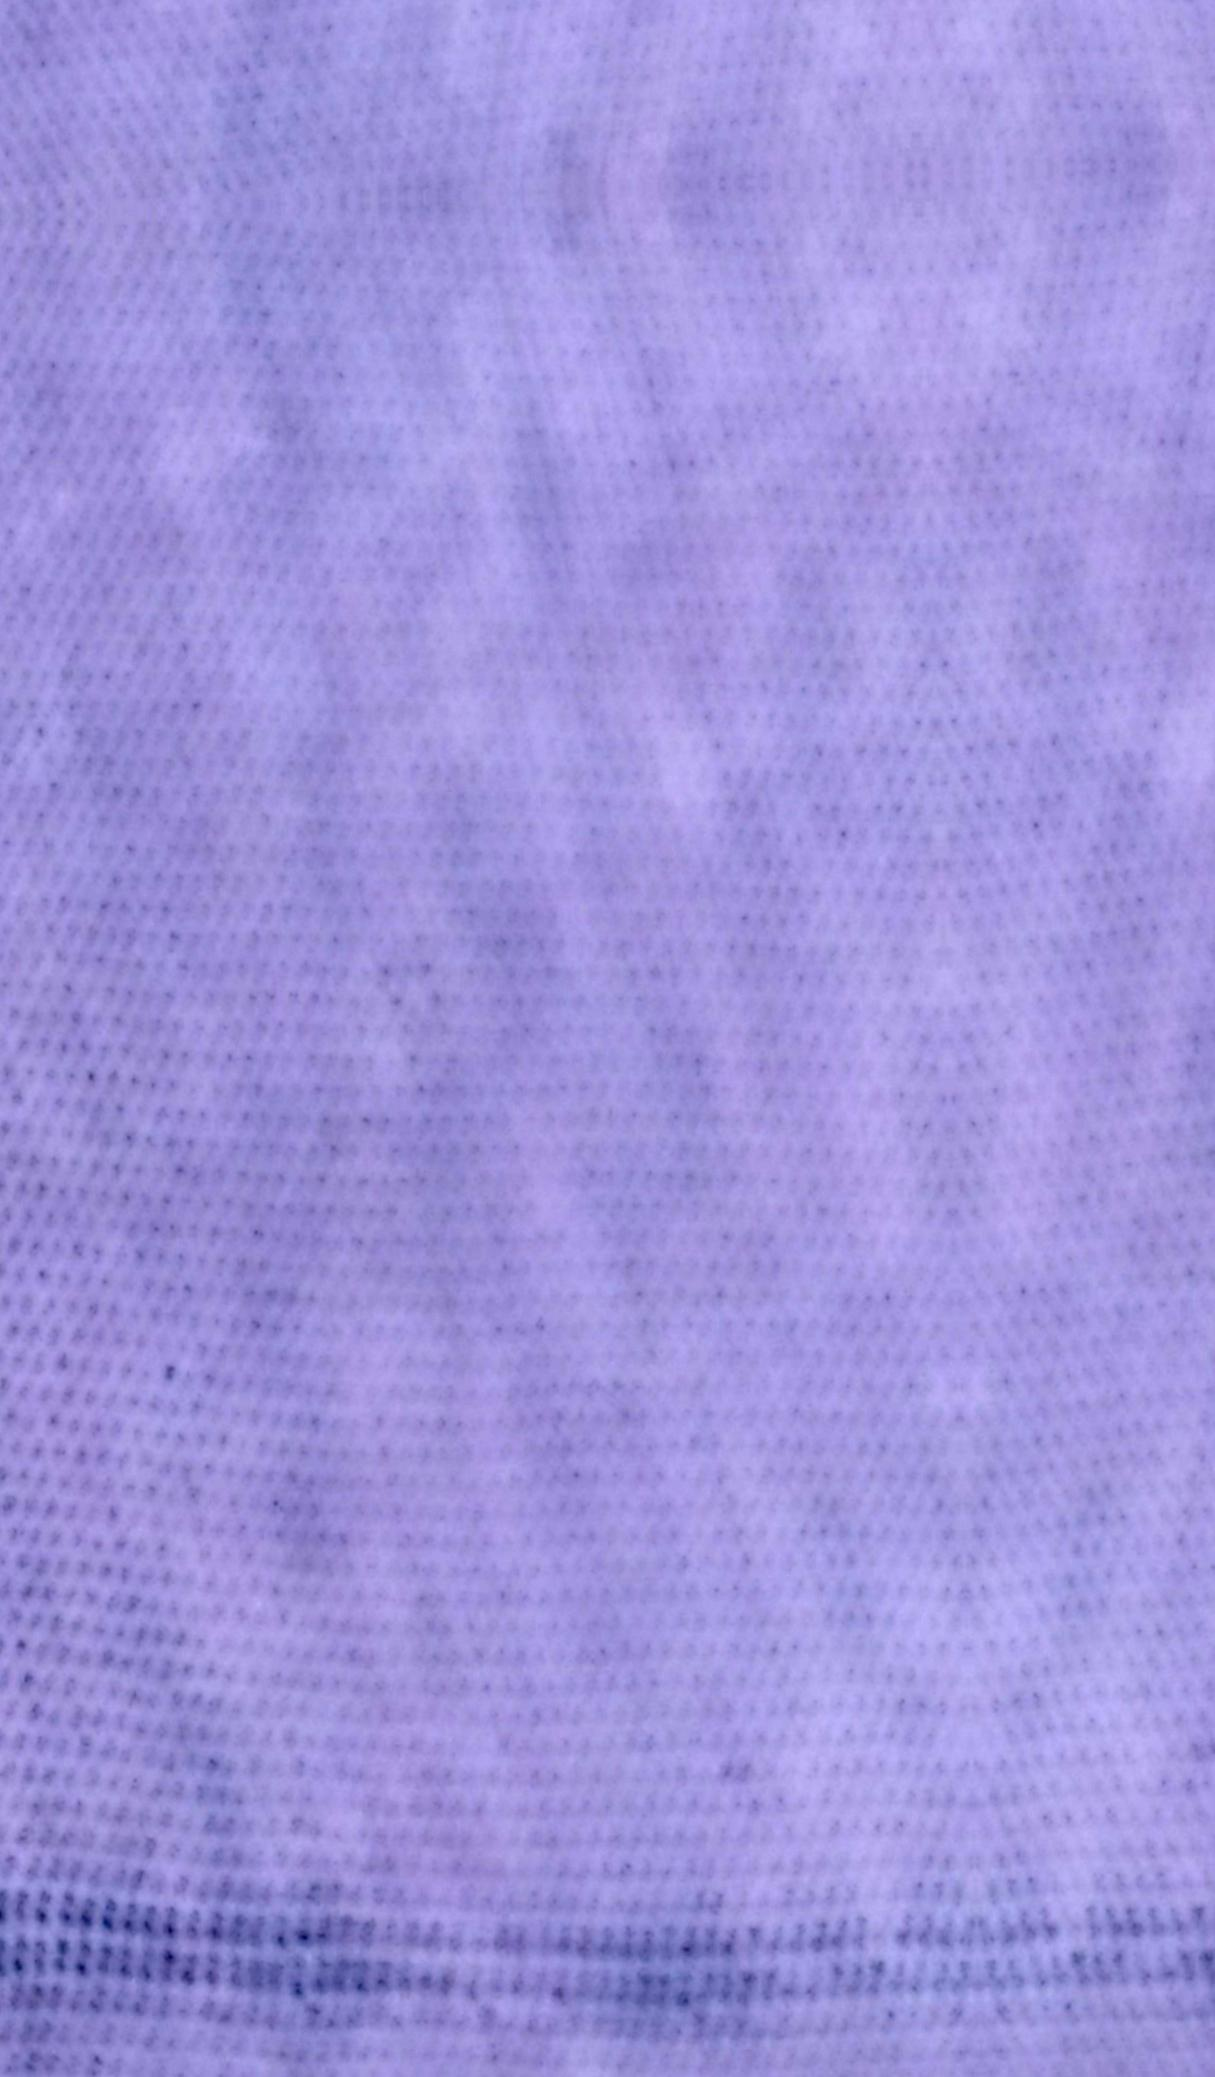slub: (4, 1877, 1211, 2067)
